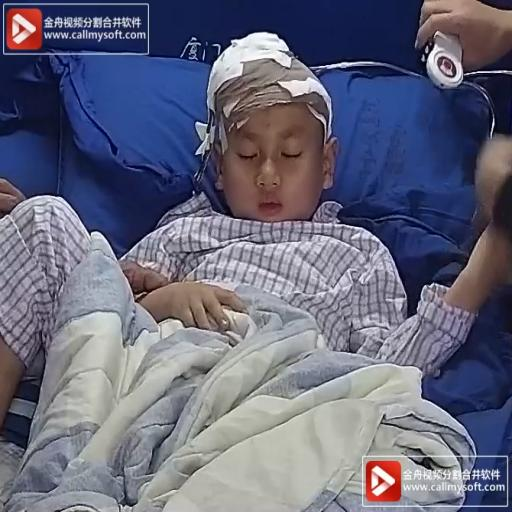Seizure: (193, 39, 346, 229)
